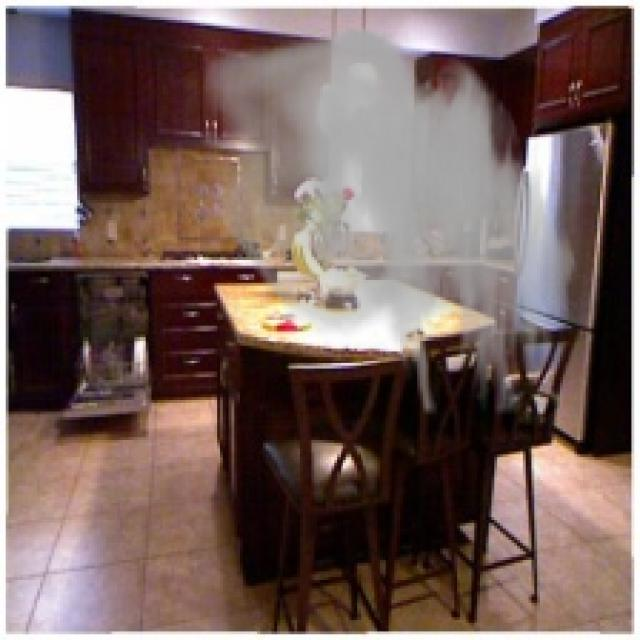smoke: (203, 26, 580, 414)
